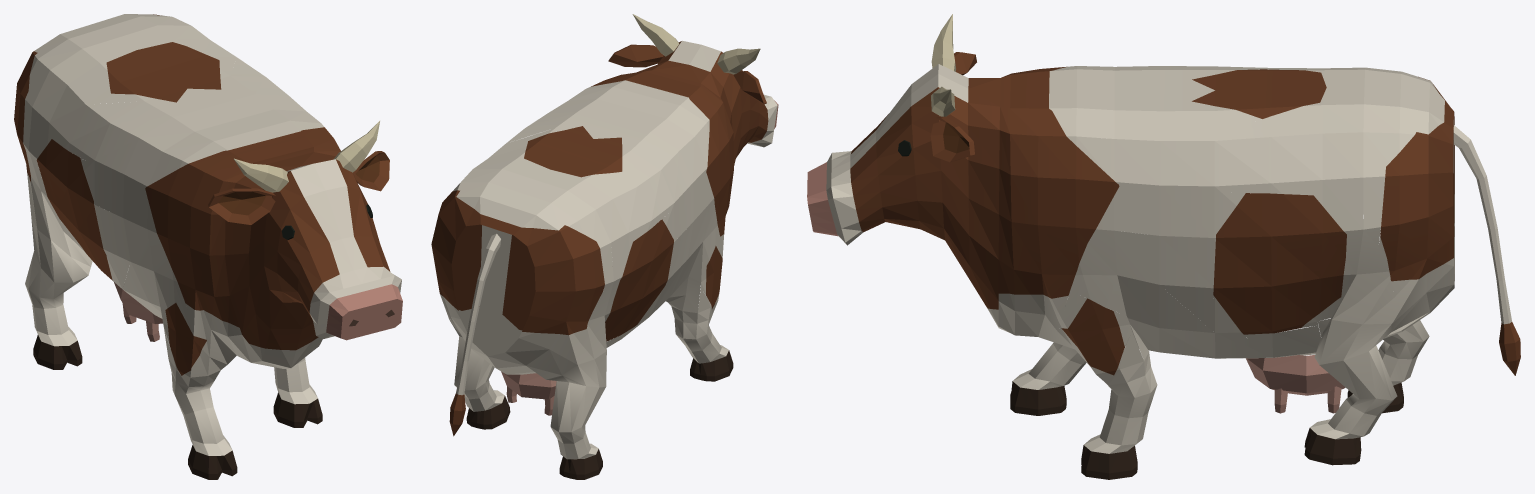
File: cow-base__walk1.glb
The picture shows the model from 3 angles, left to right: view 1: azimuth 30°, elevation 25°; view 2: azimuth 150°, elevation 25°; view 3: azimuth 270°, elevation 25°; orthographic projection. The views are drawn at different scales.
Visible parts, largest first — view 1: cow-base__walk1; view 2: cow-base__walk1; view 3: cow-base__walk1.
Part boxes in pixels (<box>): cow-base__walk1: <box>14,14,402,479</box>; cow-base__walk1: <box>431,14,778,479</box>; cow-base__walk1: <box>807,14,1520,479</box>.
Size of the model in its own units: 0.8397 by 1.41 by 2.36.
